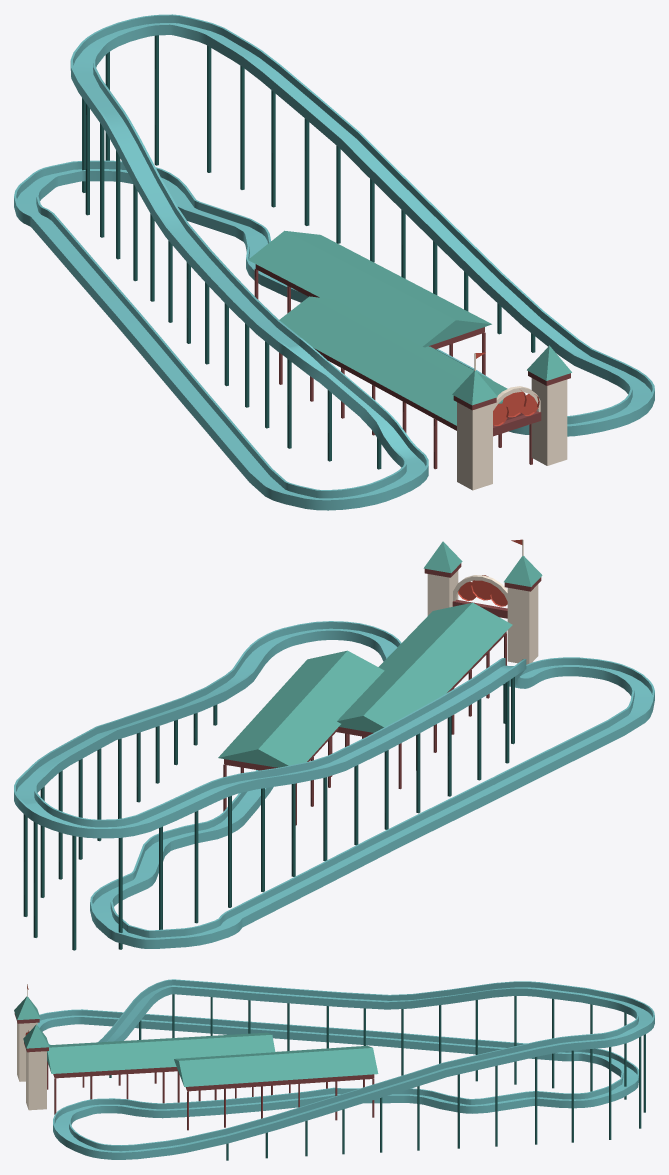
Rendered from nyc-letis-treasure.glb.
3 renders of one model, top to bottom at view 1: azimuth 30°, elevation 25°; view 2: azimuth 150°, elevation 25°; view 3: azimuth 270°, elevation 25°, orthographic. The views are drawn at different scales.
Parts seen in each view (by area): view 1: Leti's Treasure; view 2: Leti's Treasure; view 3: Leti's Treasure.
Part boxes in pixels (x1=…): Leti's Treasure: x1=14, y1=14, x2=654, y2=510; Leti's Treasure: x1=14, y1=539, x2=654, y2=950; Leti's Treasure: x1=14, y1=979, x2=654, y2=1160.
Size of the model in its own units: 45.32 by 16 by 86.79.
